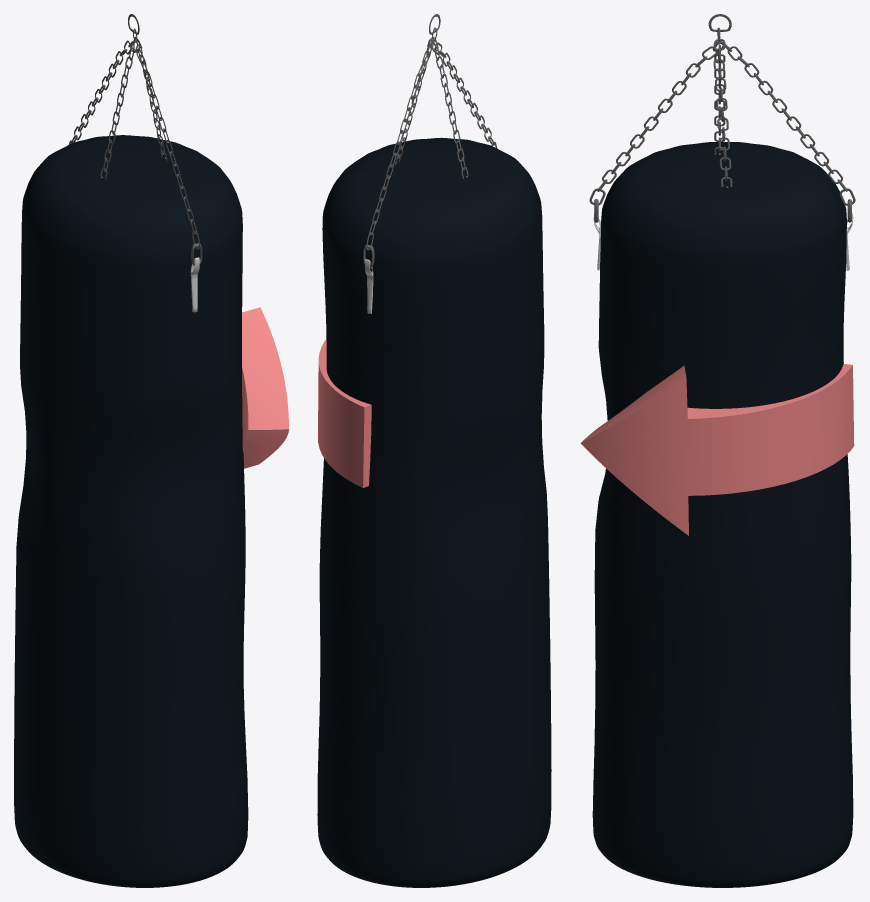
Rendered from BIG_PunchingBag_and_ArrowsDROITE.fbx.
3 views of the same model, side by side, from view 1: azimuth 30°, elevation 25°; view 2: azimuth 150°, elevation 25°; view 3: azimuth 270°, elevation 25° (orthographic).
Parts seen in each view (by area): view 1: SAC, LEFT_ARROW, CHAINE; view 2: SAC, LEFT_ARROW, CHAINE; view 3: SAC, LEFT_ARROW, CHAINE.
Part boxes in pixels (x1,y1,x2,y2): SAC: (14, 135, 248, 887); LEFT_ARROW: (242, 307, 288, 468); CHAINE: (69, 14, 202, 265); SAC: (317, 137, 551, 887); LEFT_ARROW: (318, 339, 371, 487); CHAINE: (363, 14, 497, 267); SAC: (592, 142, 853, 887); LEFT_ARROW: (580, 363, 854, 535); CHAINE: (589, 14, 855, 222).
Size of the model in its own units: 489 by 1846 by 554.
